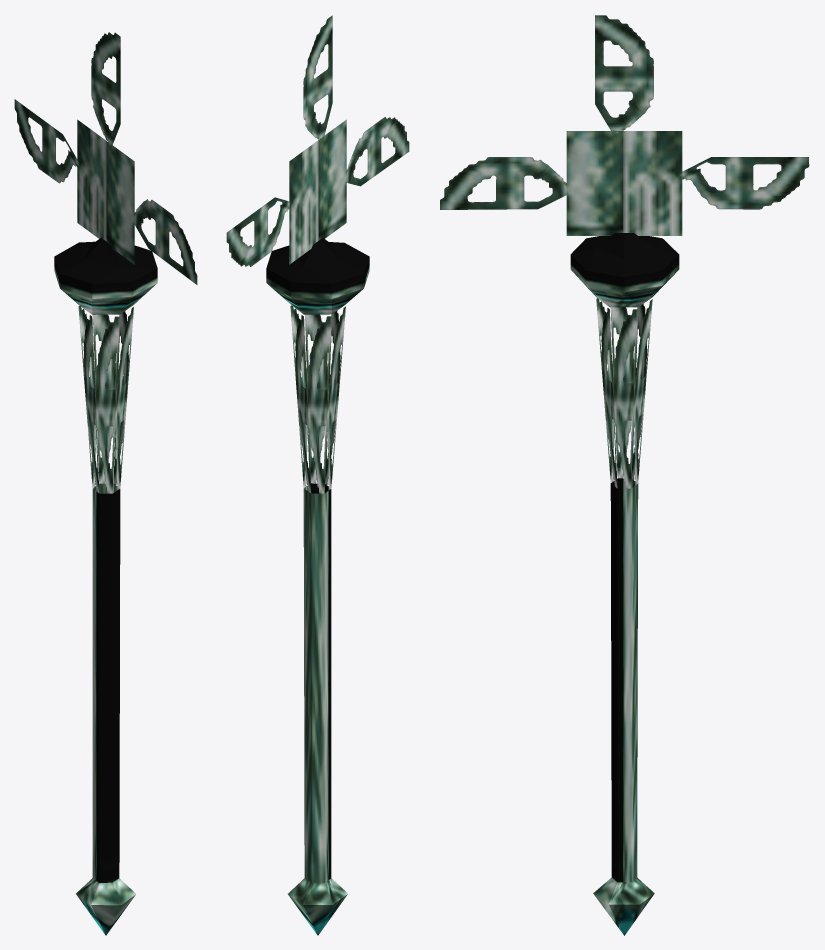
File: wavemaster04_4.obj
The picture shows the model from 3 angles, left to right: view 1: azimuth 30°, elevation 25°; view 2: azimuth 150°, elevation 25°; view 3: azimuth 270°, elevation 25°; orthographic projection.
Visible parts, largest first — view 1: wavemaster04_4; view 2: wavemaster04_4; view 3: wavemaster04_4.
Boxes of the visible parts, box(x1,y1,x2,y2) form: wavemaster04_4: box(14, 32, 197, 935); wavemaster04_4: box(226, 15, 409, 935); wavemaster04_4: box(440, 15, 809, 935).
Bounding box in the file's own units: 0.1375 × 1.3 × 0.475.
